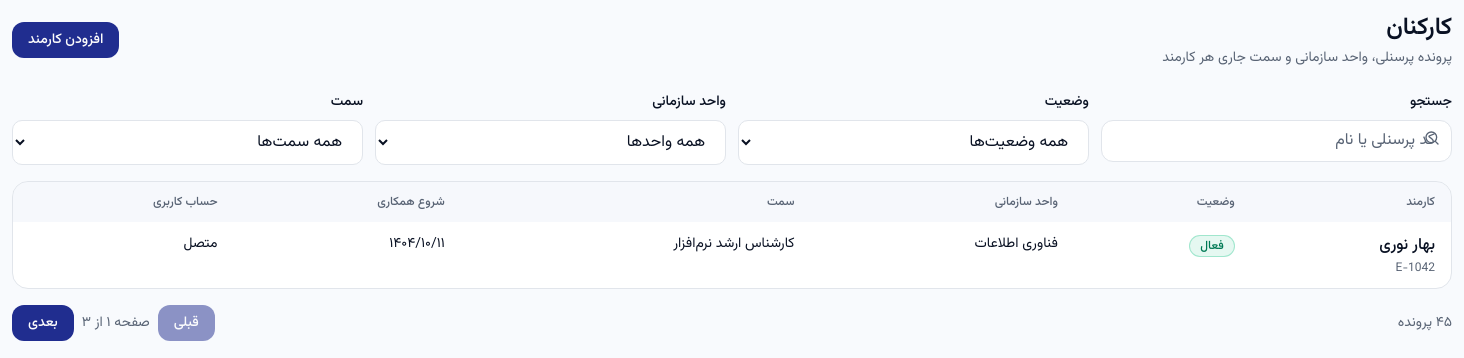
it: HrEmployeesView › disables the previous control on page one and pages forward through the server
Expected: the table with test id "hr-employee-table" is shown, [13,182,1451,288]
Expected: the button with test id "hr-employee-prev" is disabled, [158,305,215,341]
Click the button with test id "hr-employee-next": x=43, y=323 [12,305,74,341]
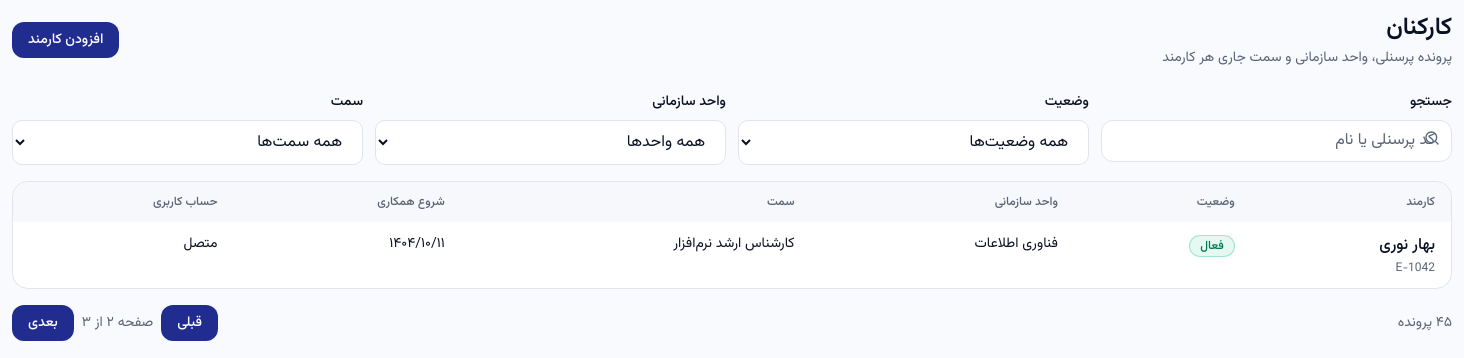
Expected: the button with test id "hr-employee-prev" is enabled, [161,305,218,341]
